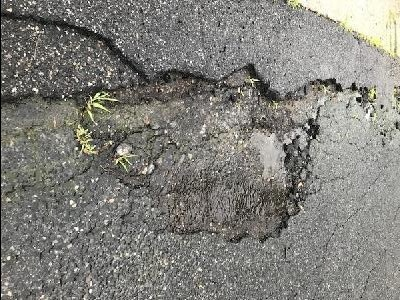pothole: (72, 59, 371, 247)
